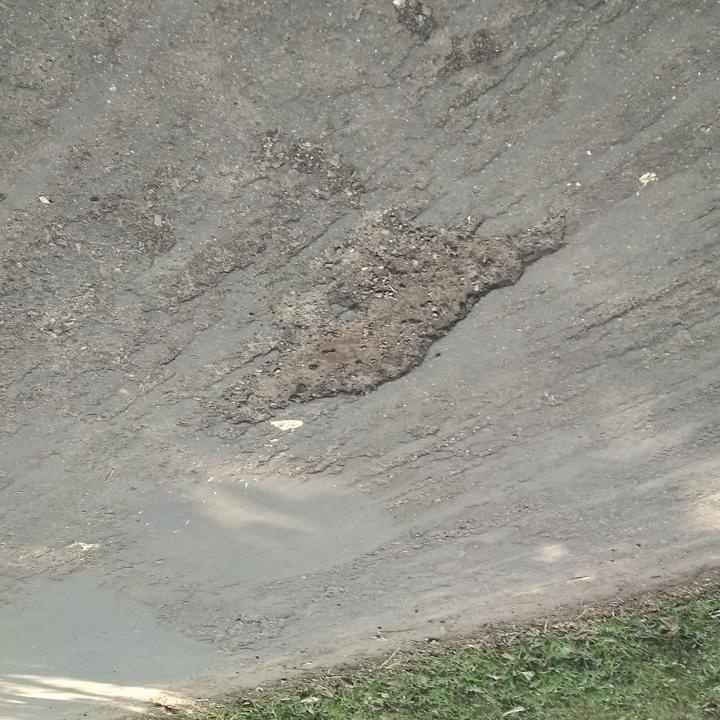pothole: (211, 196, 576, 429)
